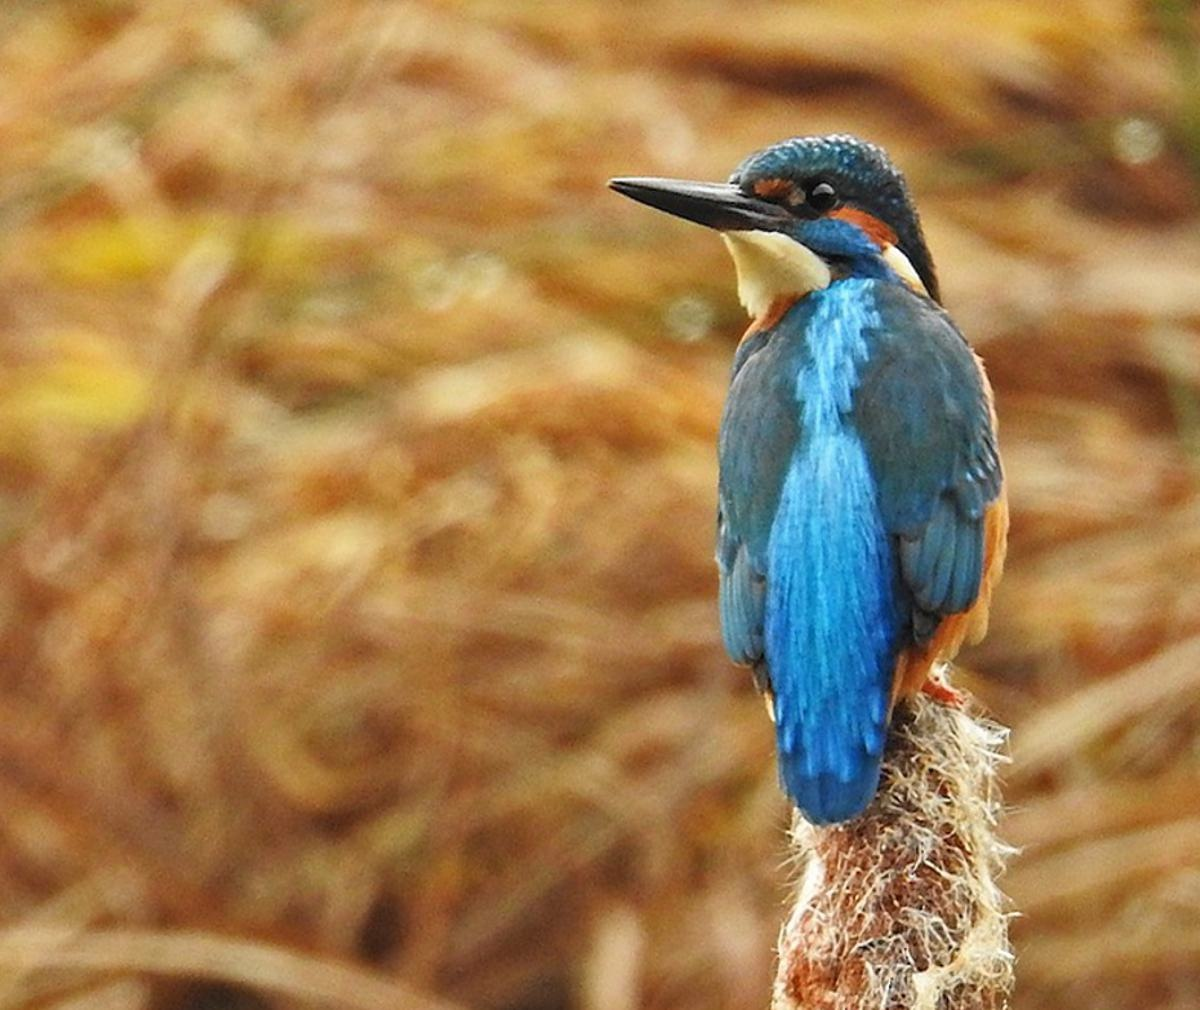kingfisher: (611, 78, 1046, 852)
